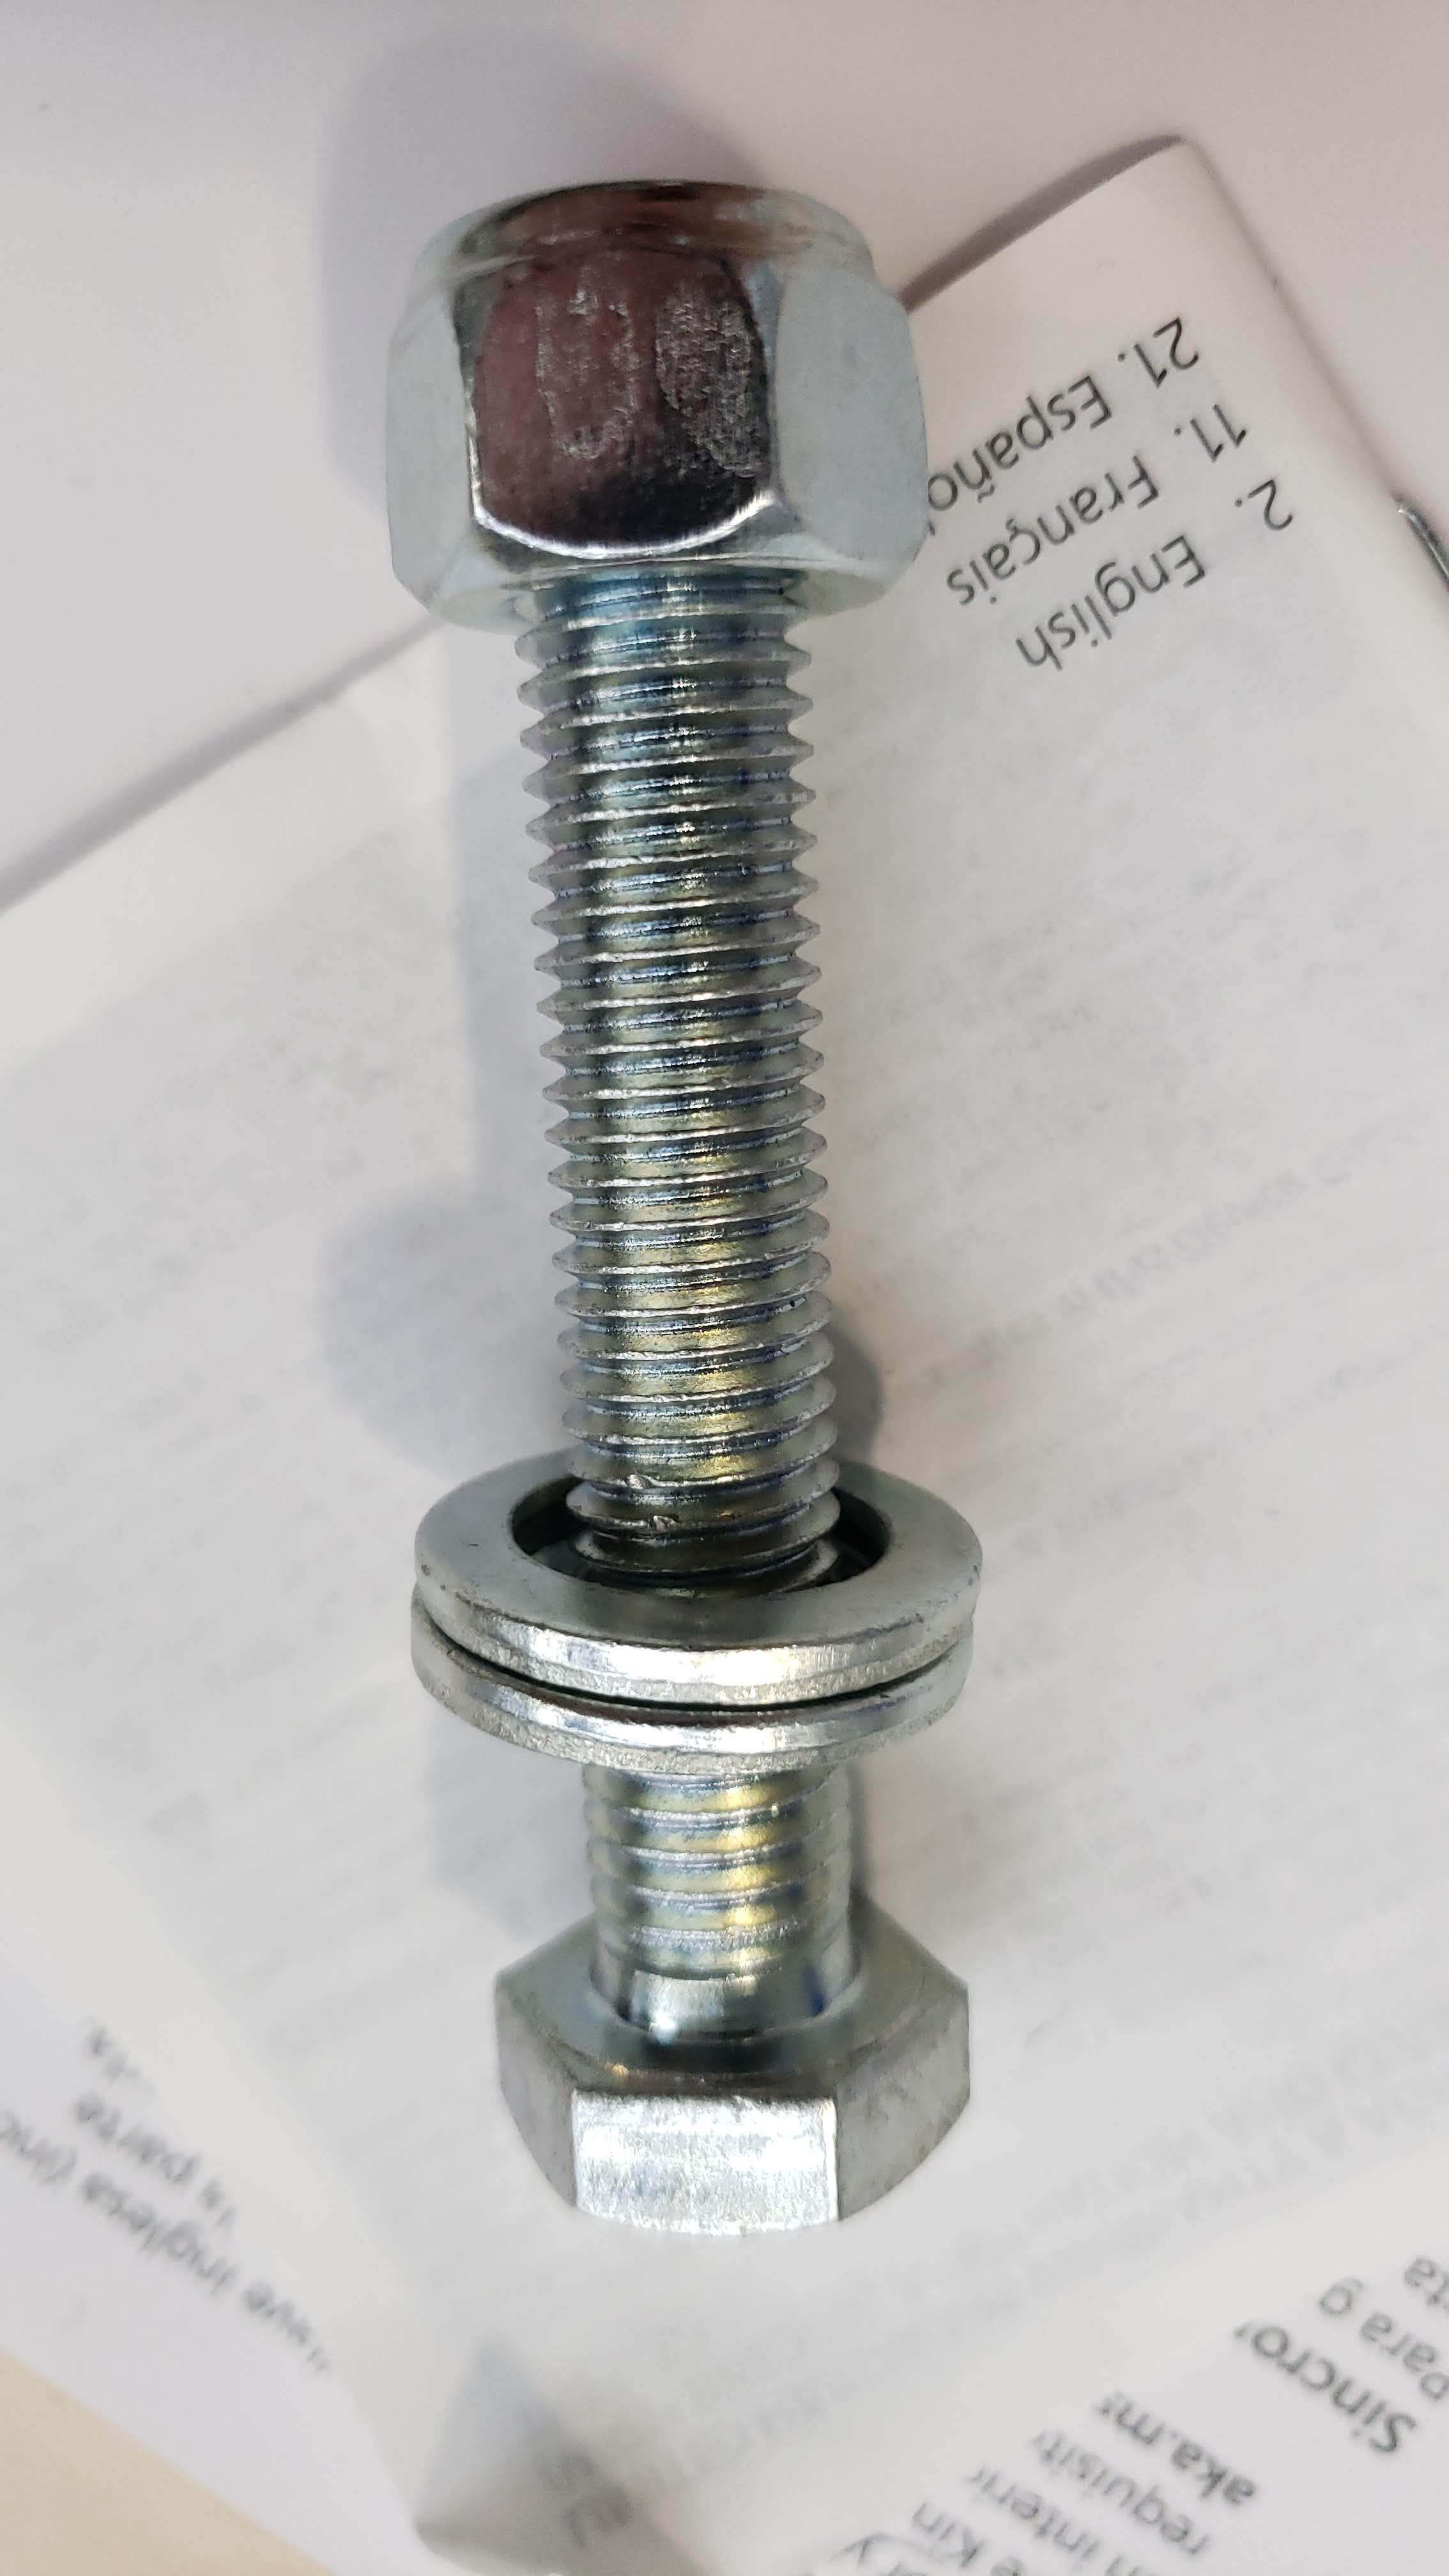FinishedAssembly: (283, 57, 1184, 2404)
